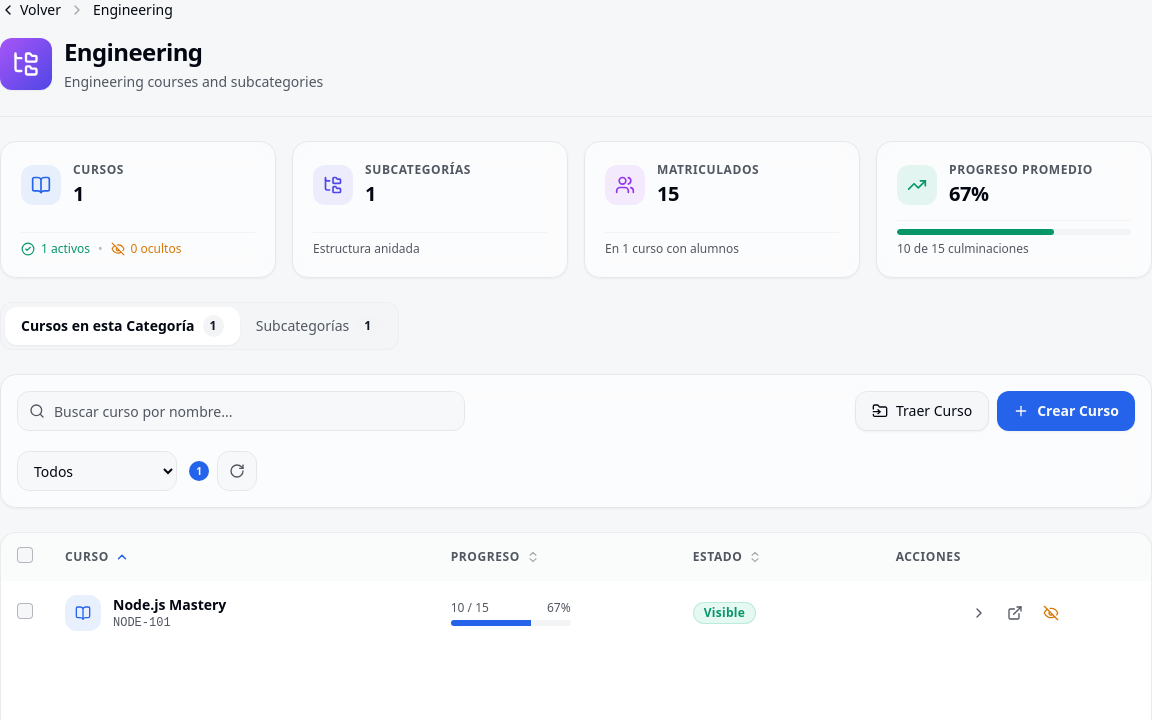
Detail Views Integration (TD-012) › renders CategoryDetailView with category details and courses, and opens Traer Curso modal
The width and height of the screenshot is (1152, 720).
Check: the text "Engineering" is shown, box [93,0,173,20]
Check: the text "Node.js Mastery" is shown, box [113,595,226,615]
Click the button "Traer Curso" at x=922, y=411, box [855,391,989,431]
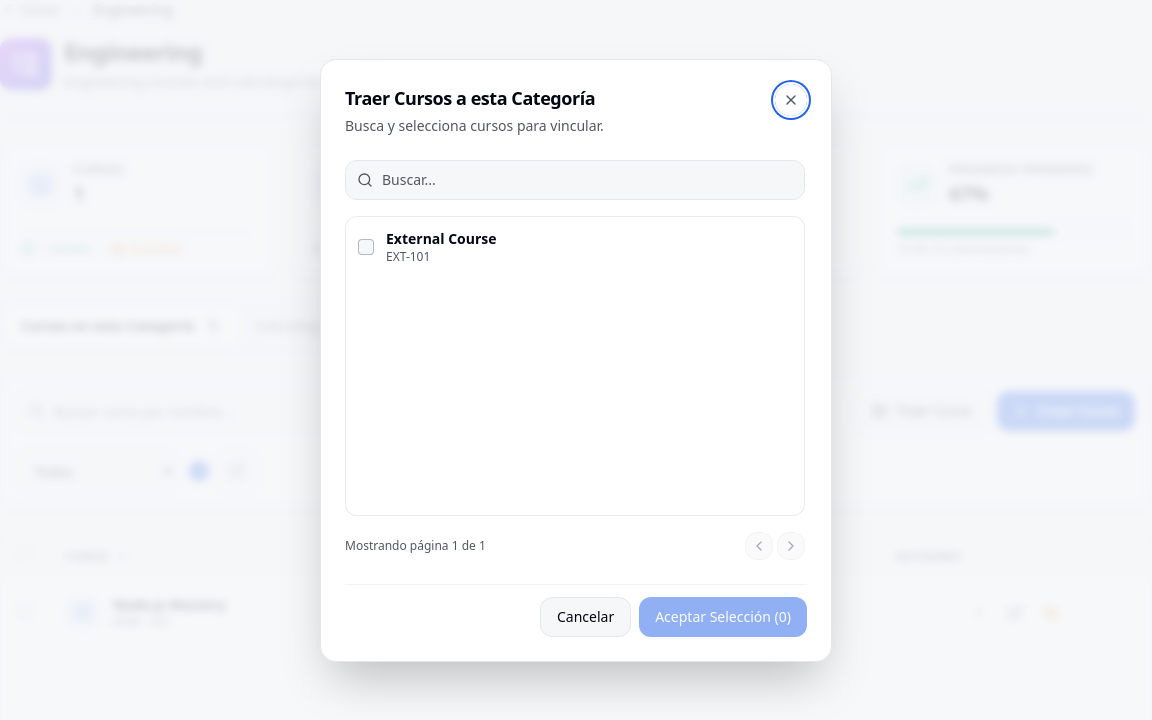
Check: the heading "Traer Cursos a esta Categoría" is shown, box [345,84,604,112]
